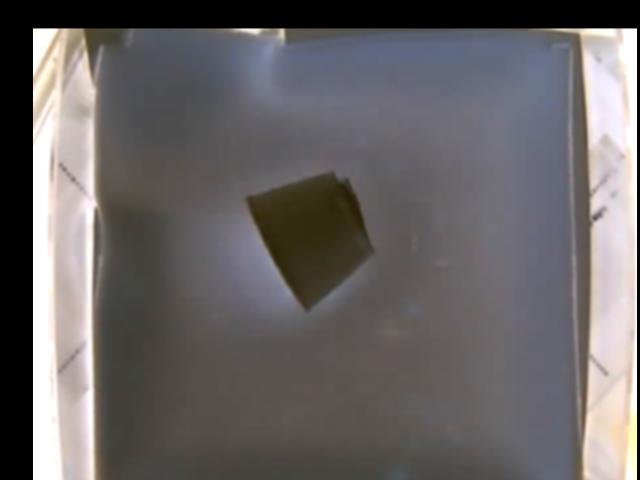Cup: (244, 170, 370, 316)
